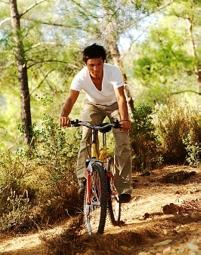person: (60, 45, 132, 205)
